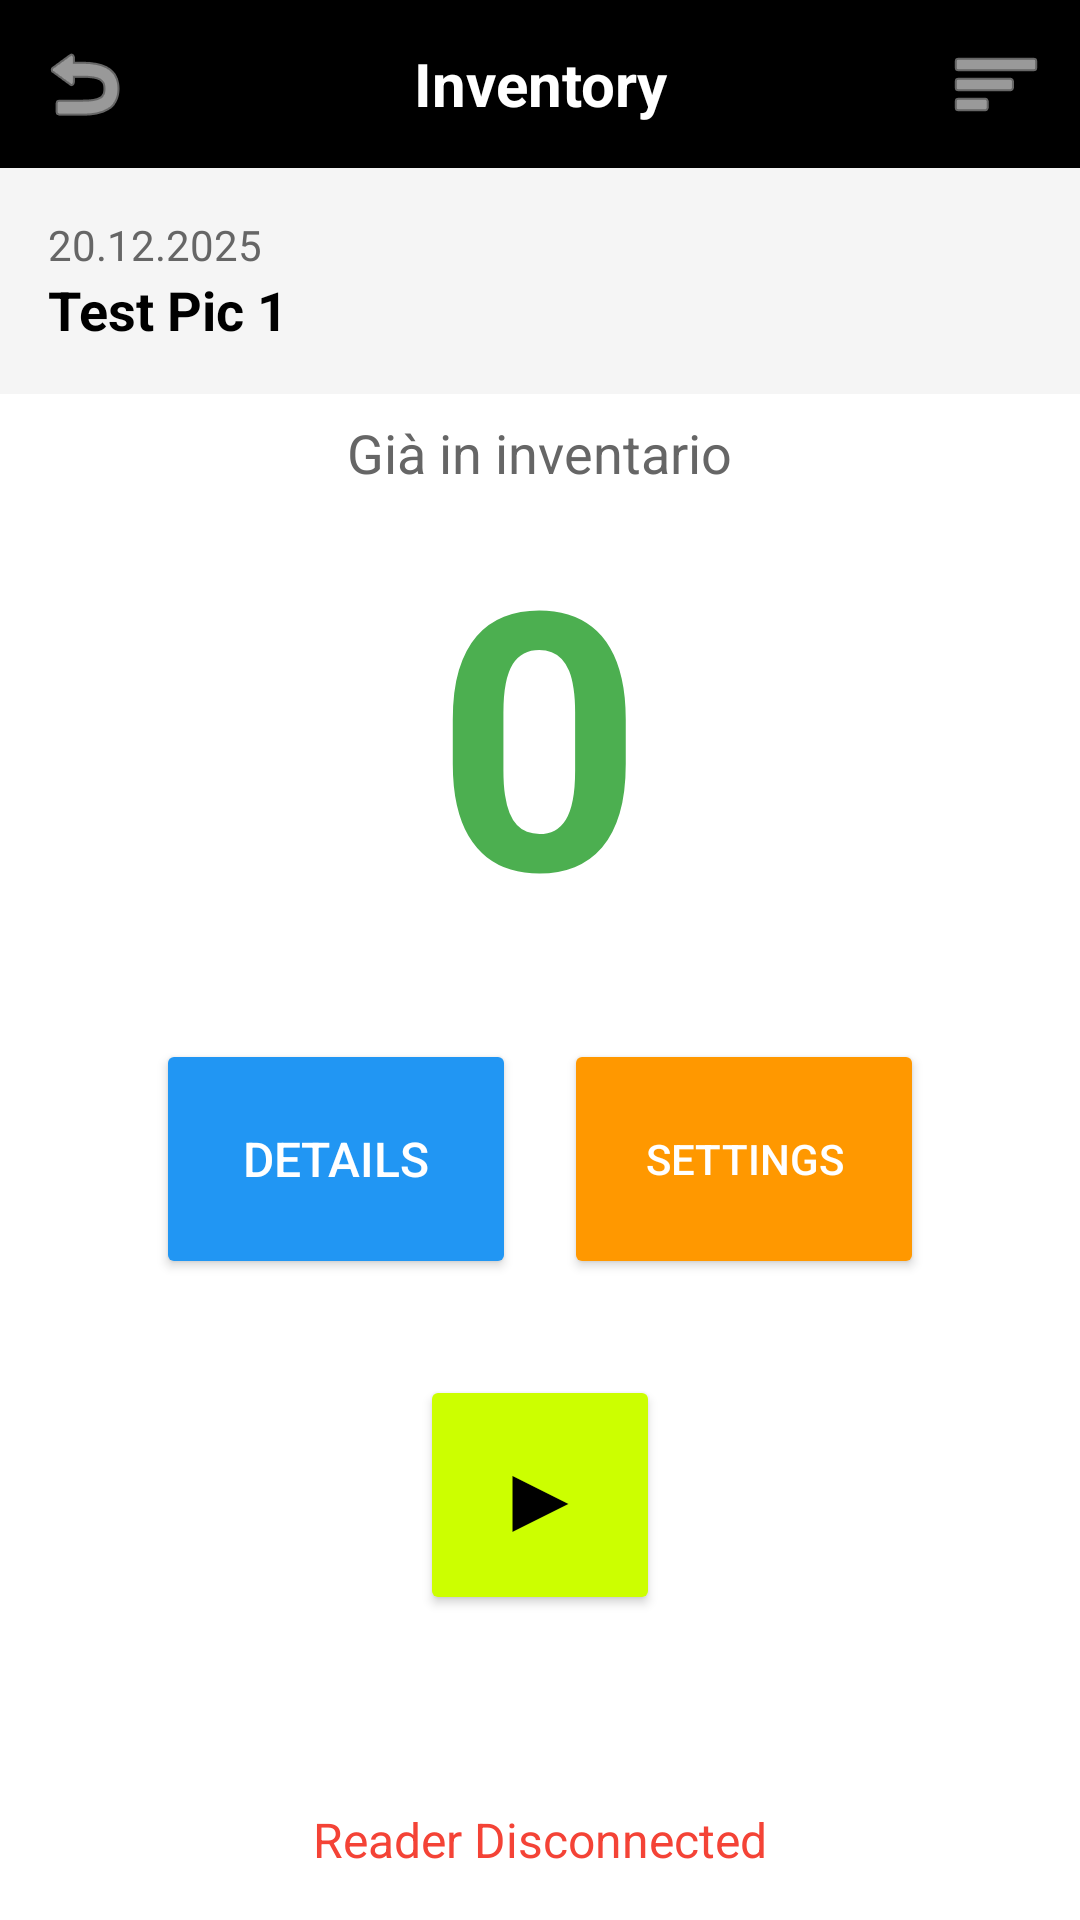

Where to tap for icons on this 1080px x 1920px app screen, as [x,y]:
Back: [85,84]
